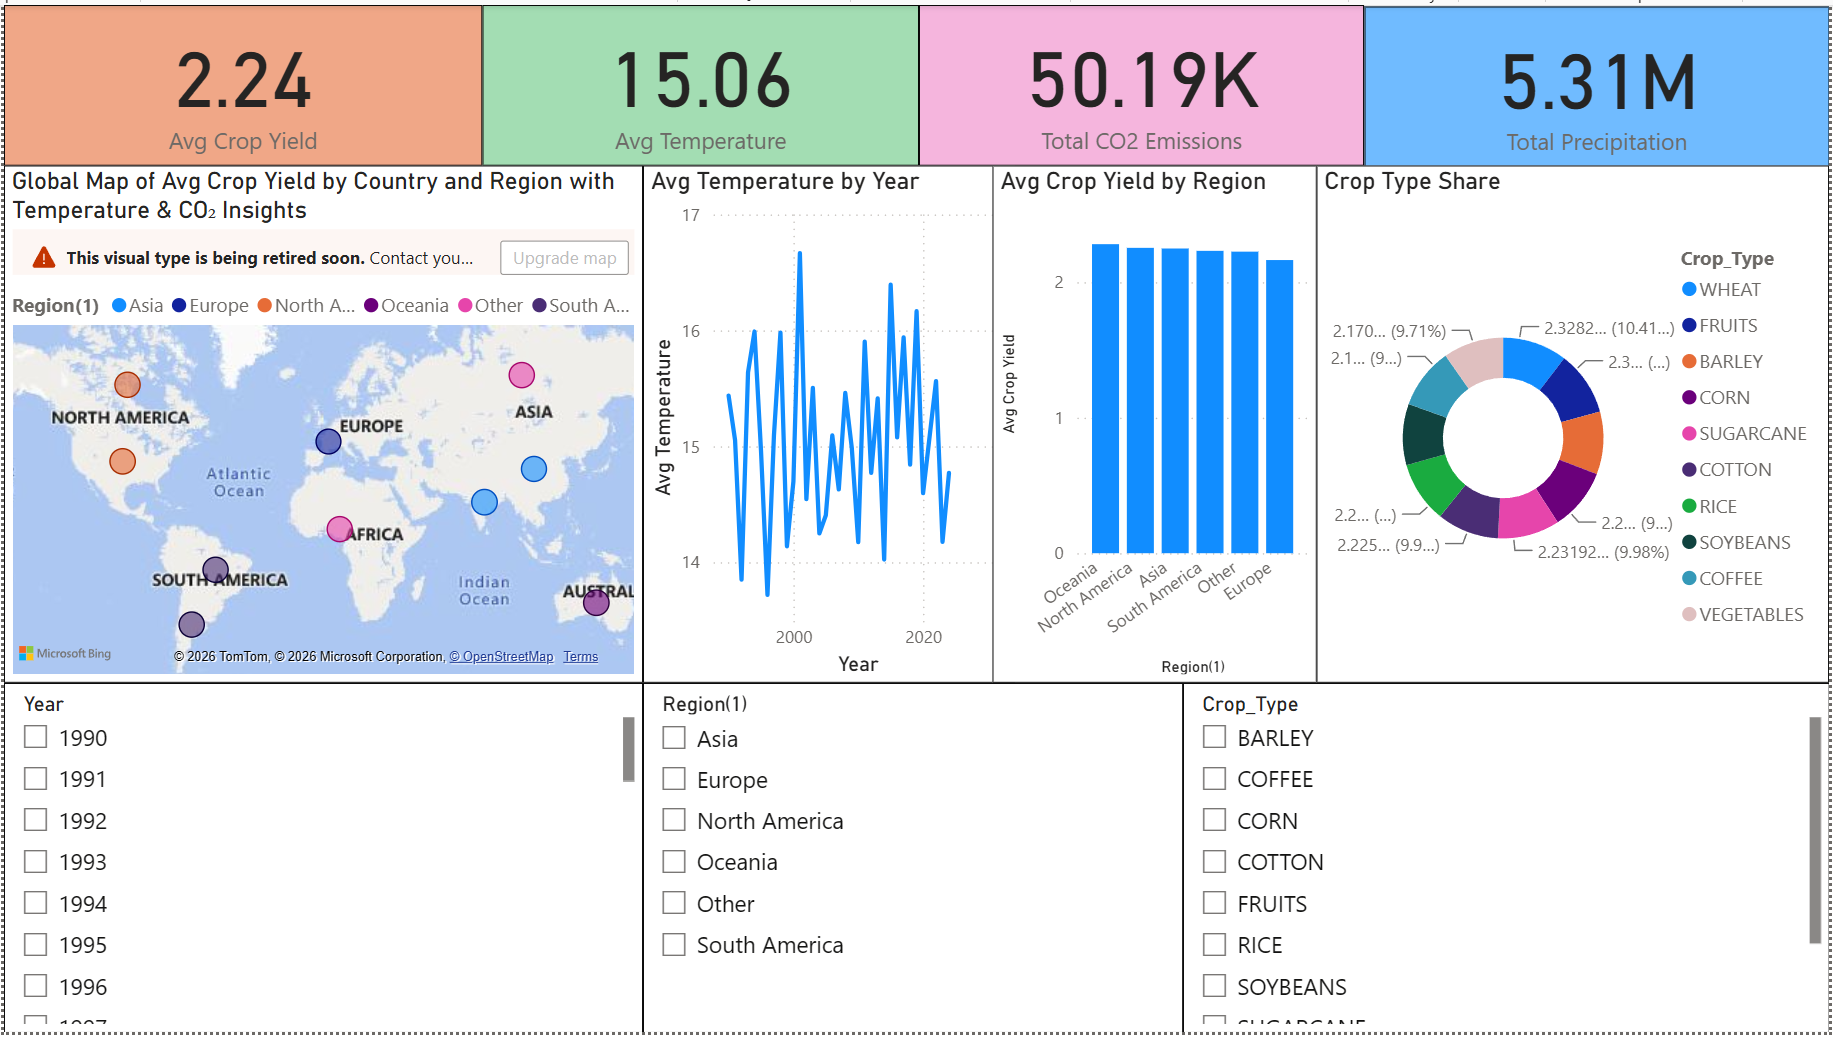

What the dashboard file says about the page in this screenshot:
{"tool":"powerbi","page":{"name":"Executive Overview","canvas":[1280,720],"ordinal":0},"visuals":[{"type":"card","fields":{"Values":["FactAgriculture.Avg Crop Yield"]},"box":[0,0,335.5,112.5],"z":0},{"type":"card","fields":{"Values":["FactAgriculture.Avg Temperature"]},"box":[335.5,0,306,112.5],"z":1000},{"type":"card","fields":{"Values":["FactAgriculture.Total CO2 Emissions"]},"box":[641.5,0,312.3,112.5],"z":2000},{"type":"card","fields":{"Values":["FactAgriculture.Total Precipitation"]},"box":[953.8,1.1,326,112.5],"z":3000},{"type":"map","title":"Global Map of Avg Crop Yield by Country and Region with Temperature & CO₂ Insights","fields":{"Category":["DimCountry.Country"],"Size":["FactAgriculture.Avg Crop Yield"],"Series":["DimCountry.Region(1)"]},"box":[0,112.5,448,362.8],"z":4000},{"type":"lineChart","fields":{"Category":["DimDate.Year"],"Y":["FactAgriculture.Avg Temperature"]},"box":[448,112.5,260.8,362.8],"z":5000},{"type":"clusteredColumnChart","title":"Avg Crop Yield by Region","fields":{"Y":["FactAgriculture.Avg Crop Yield"],"Category":["DimCountry.Region(1)"]},"box":[693,112.5,227.2,362.8],"z":6000},{"type":"donutChart","title":"Crop Type Share","fields":{"Category":["DimCrop.Crop_Type"],"Y":["FactAgriculture.Avg Crop Yield"]},"box":[920.2,112.5,359.7,362.8],"z":7000},{"type":"slicer","fields":{"Values":["DimDate.Year"]},"box":[0,475.3,448,245],"z":8000},{"type":"slicer","title":"Region","fields":{"Values":["DimCountry.Region(1)"]},"box":[448,475.3,378.6,245],"z":9000},{"type":"slicer","title":"Crop Type","fields":{"Values":["DimCrop.Crop_Type"]},"box":[826.6,475.3,453.2,245],"z":10000}]}

Visuals, with their boxes in screenshot pixels (x1, y1, x2, y2), scaled from the page's 1280x720 canvas onto the 1833x1041 screenshot:
card - FactAgriculture.Avg Crop Yield: (0,0,480,163)
card - FactAgriculture.Avg Temperature: (480,0,919,163)
card - FactAgriculture.Total CO2 Emissions: (919,0,1366,163)
card - FactAgriculture.Total Precipitation: (1366,2,1832,164)
"Global Map of Avg Crop Yield by Country and Region with Temperature & CO₂ Insights" map: (0,163,642,687)
lineChart - DimDate.Year x FactAgriculture.Avg Temperature: (642,163,1015,687)
"Avg Crop Yield by Region" clusteredColumnChart: (992,163,1318,687)
"Crop Type Share" donutChart: (1318,163,1832,687)
slicer - DimDate.Year: (0,687,642,1040)
"Region" slicer: (642,687,1184,1040)
"Crop Type" slicer: (1184,687,1832,1040)
